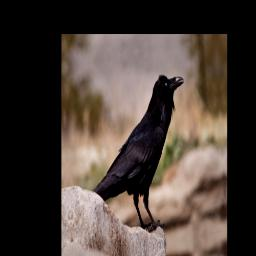Crow: (85, 65, 193, 242)
